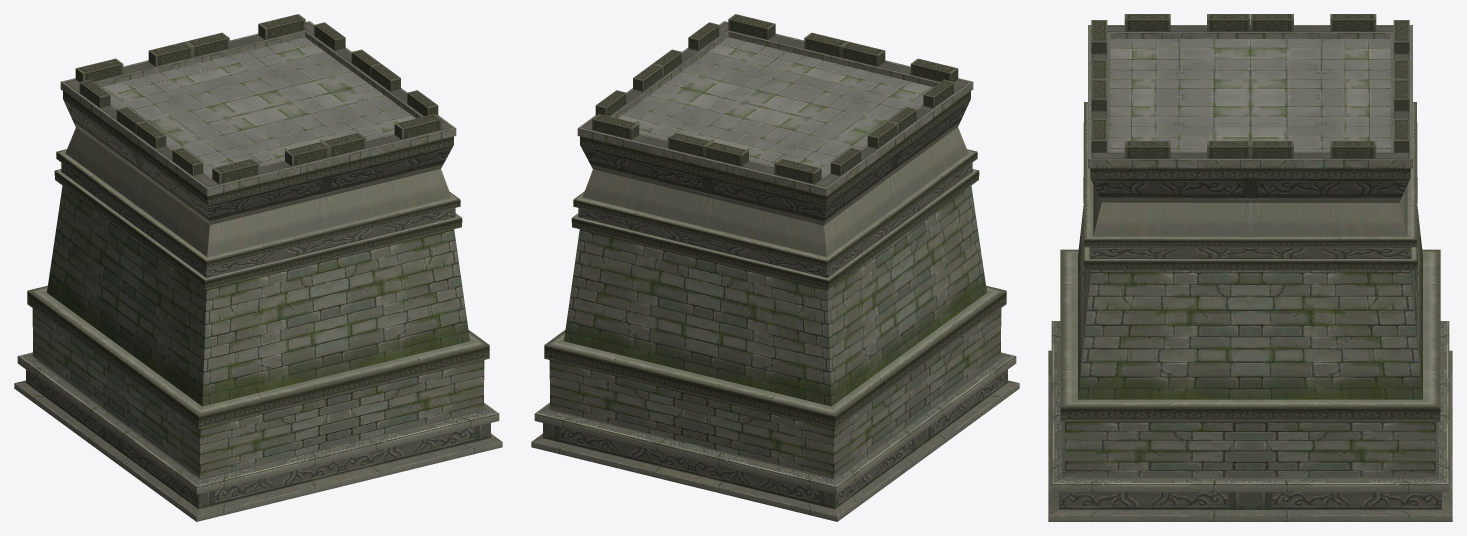
The model's file is Yland3_jz_01 Yland3.FBX.
3 views of the same model, side by side, from view 1: azimuth 30°, elevation 25°; view 2: azimuth 150°, elevation 25°; view 3: azimuth 270°, elevation 25° (orthographic). The views are drawn at different scales.
Visible parts, largest first — view 1: Yland3_jz_01 Yland3; view 2: Yland3_jz_01 Yland3; view 3: Yland3_jz_01 Yland3.
Part boxes in pixels (x1=…): Yland3_jz_01 Yland3: x1=14, y1=14, x2=502, y2=521; Yland3_jz_01 Yland3: x1=531, y1=14, x2=1019, y2=521; Yland3_jz_01 Yland3: x1=1048, y1=14, x2=1452, y2=521.
Size of the model in its own units: 4.94 by 4.99 by 5.09.
